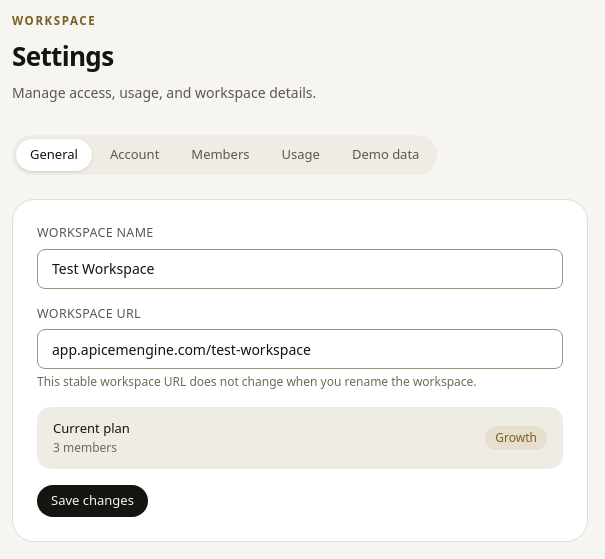
Scenario: SettingsPage — General tab › saves a workspace name through the update mutation
Replace the text in the field labelled "Workspace name" with "Renamed Workspace" at (300, 268), box 37,248 -> 563,288
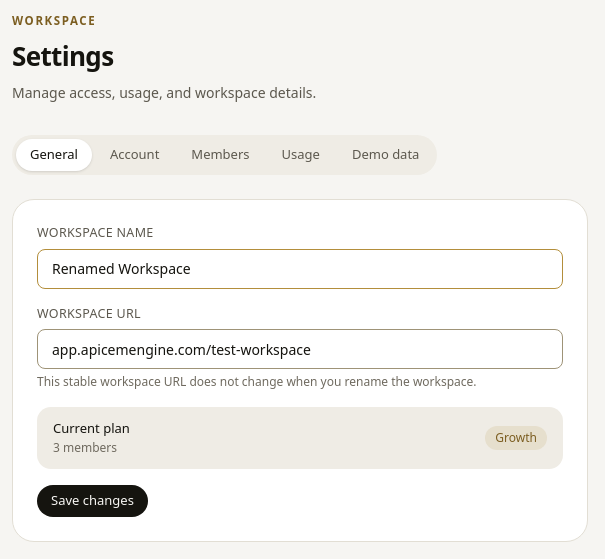
Click the button "Save changes".
click(92, 501)  # box 37,485 -> 148,517
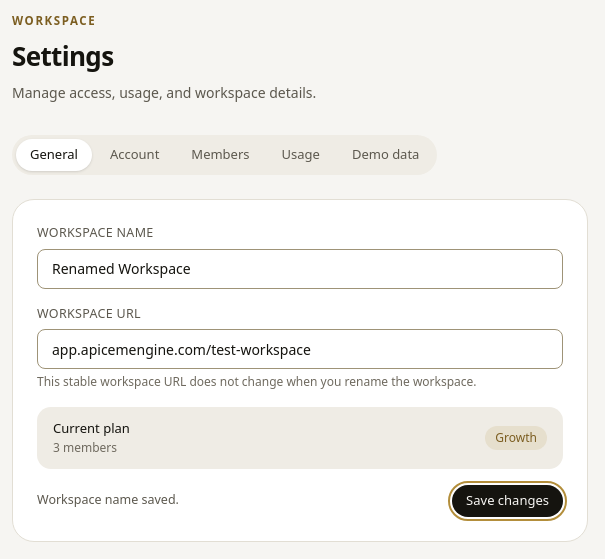
Now the text "Workspace name saved." is shown, box 37,491 -> 179,510
